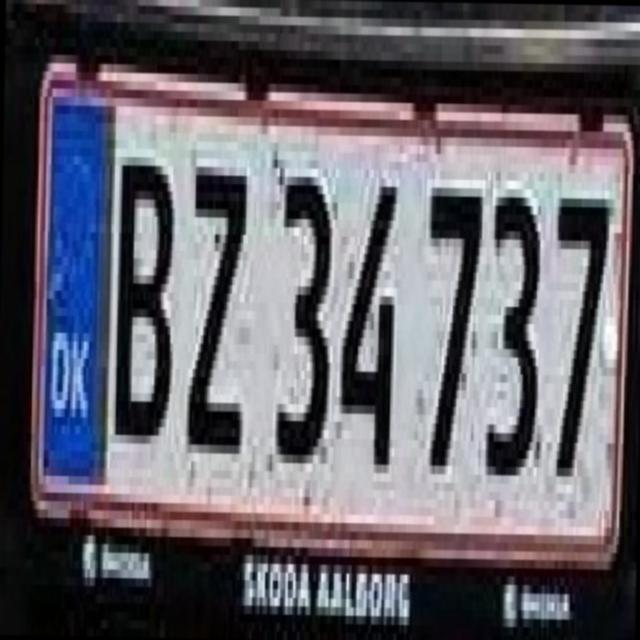3: (264, 150, 338, 454), (470, 172, 546, 468)
4: (328, 160, 406, 464)
7: (538, 173, 620, 477), (412, 170, 490, 467)
B: (107, 140, 178, 443)
Z: (180, 149, 250, 445)
